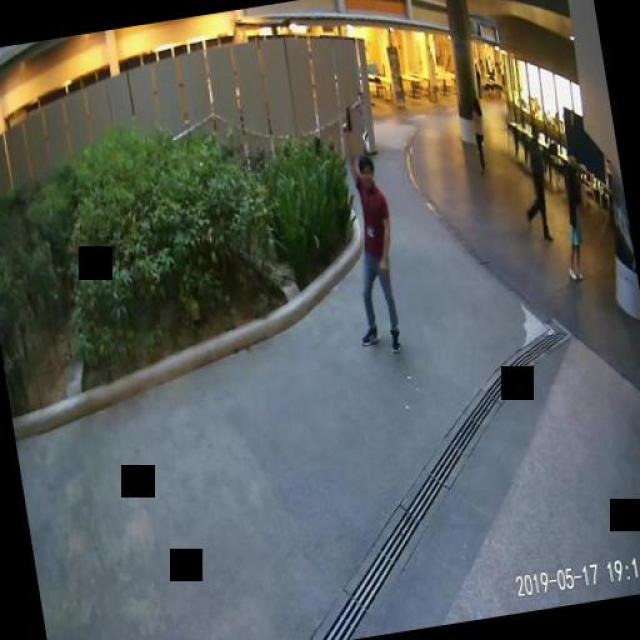gun: (338, 104, 352, 132)
